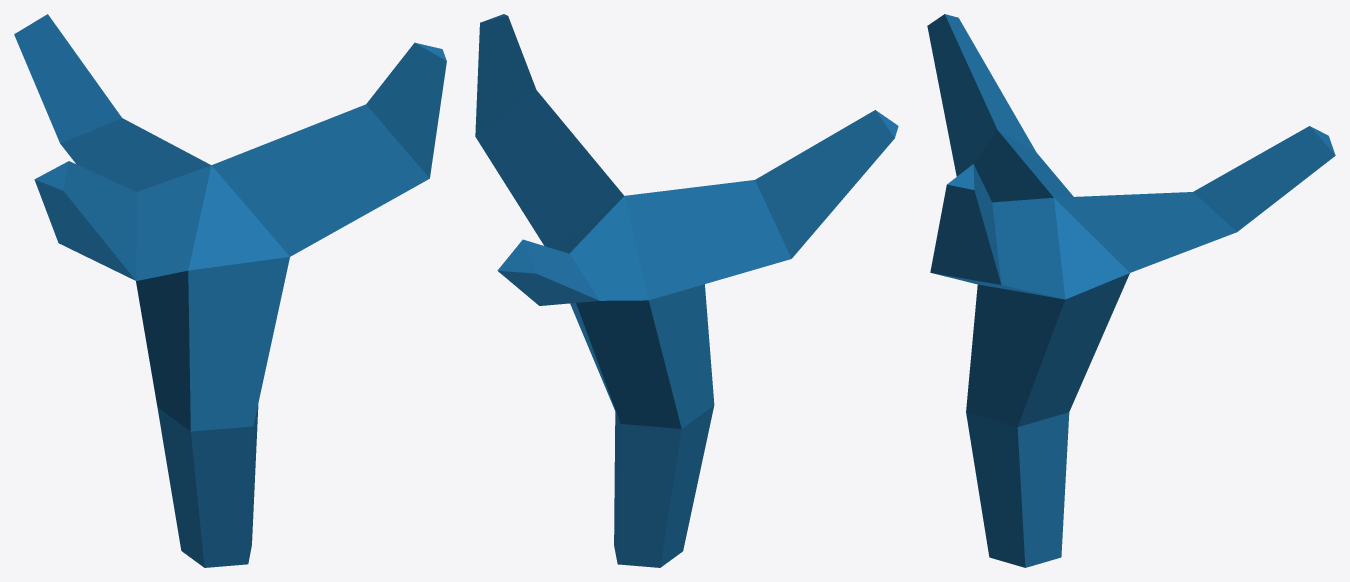
The model's file is Coral C.fbx.
3 renders of one model, left to right at view 1: azimuth 30°, elevation 25°; view 2: azimuth 150°, elevation 25°; view 3: azimuth 270°, elevation 25°, orthographic. The views are drawn at different scales.
Visible parts, largest first — view 1: Cylinder001; view 2: Cylinder001; view 3: Cylinder001.
Boxes of the visible parts, bbox=[...] form: Cylinder001: bbox=[14, 14, 446, 567]; Cylinder001: bbox=[475, 14, 898, 567]; Cylinder001: bbox=[927, 14, 1335, 567].
Size of the model in its own units: 16.92 by 19 by 15.05.
1 material, 1 textured.
